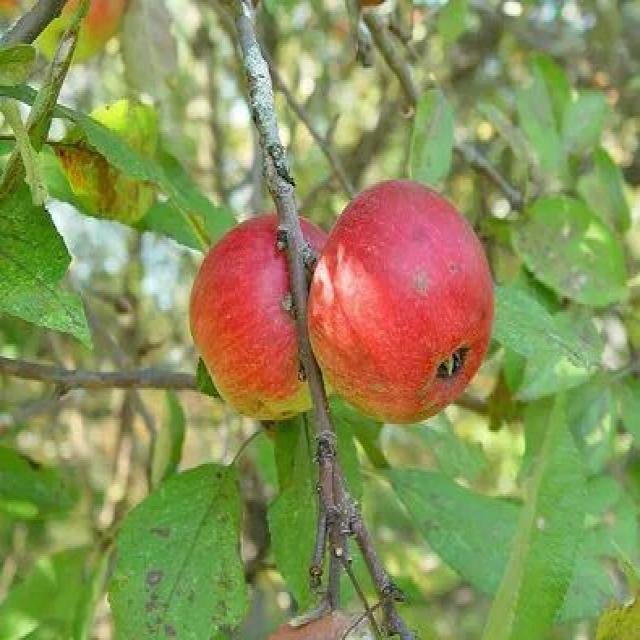Fresh Apple: (310, 185, 495, 427)
